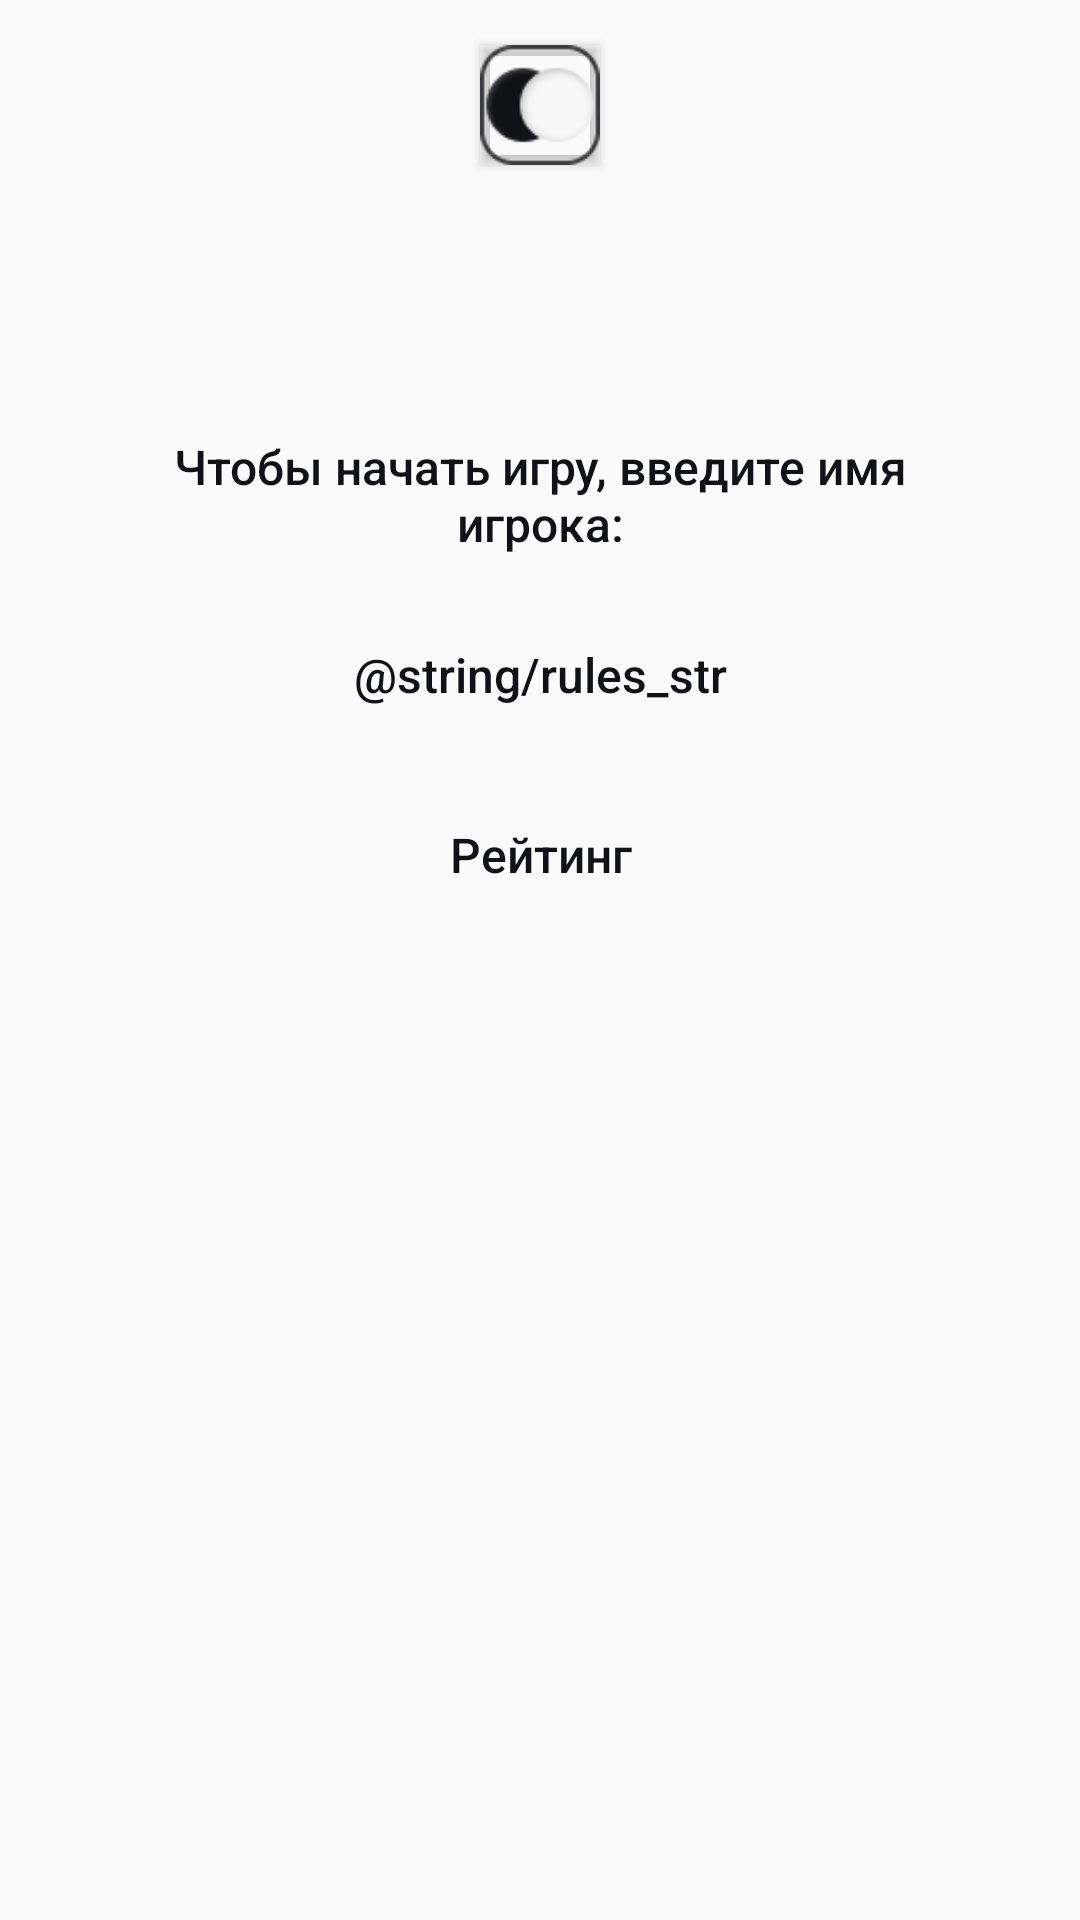

Where to tap for icons on this 1080*1920 app screen, as [x,y]:
emblema: [540,105]
